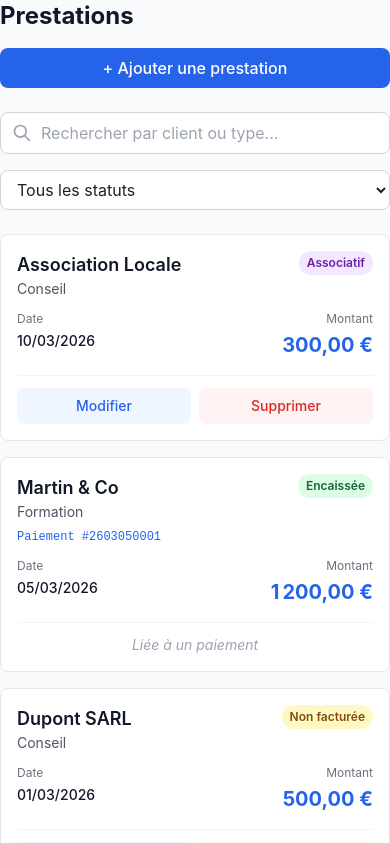
Test: Prestations page › opens the delete confirmation dialog when clicking Supprimer
// Dupont SARL has no paiement_id so it has Supprimer buttons (mobile + desktop)
Click the button "Supprimer" below "300,00 €" at (286,406), box [199,388,373,424]
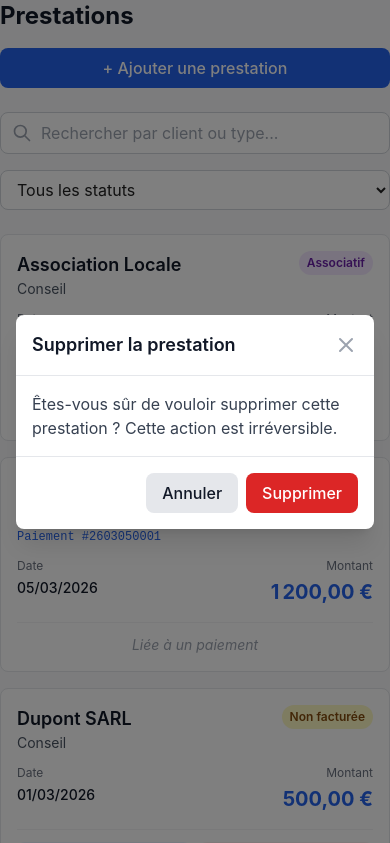
Expected: the text "Êtes-vous sûr de vouloir supprimer cette prestation ? Cette action est irréversible." is shown, [32,394,340,438]
